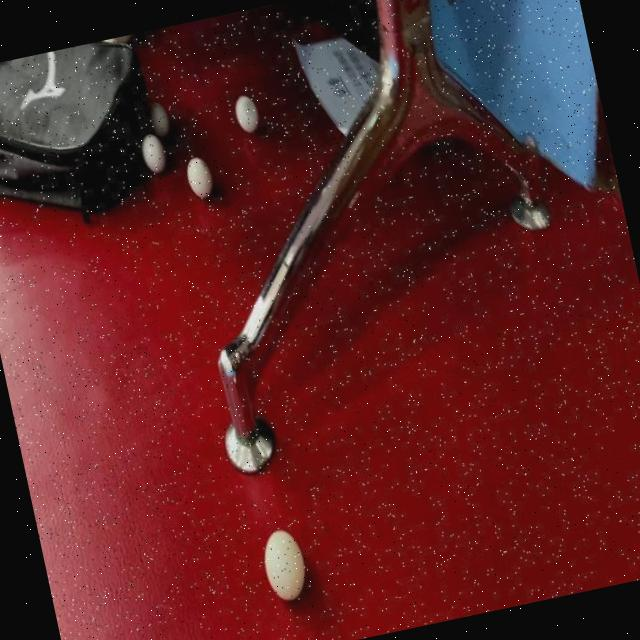ping-pong-ball: (254, 521, 316, 611), (180, 145, 220, 206), (134, 121, 174, 182), (228, 84, 266, 137)
